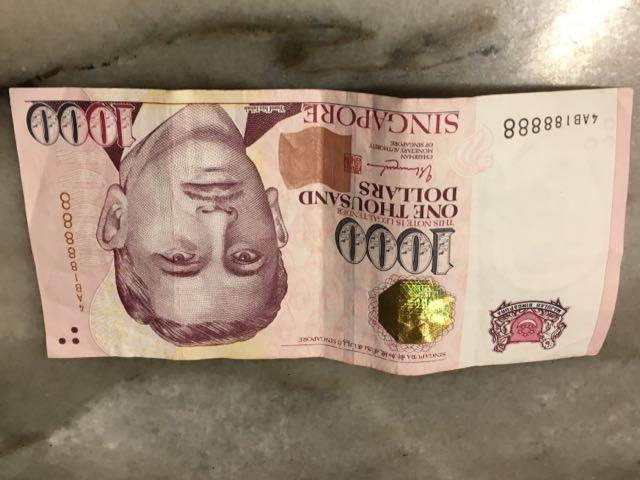1000SingaporeDollar: (27, 100, 600, 355)
